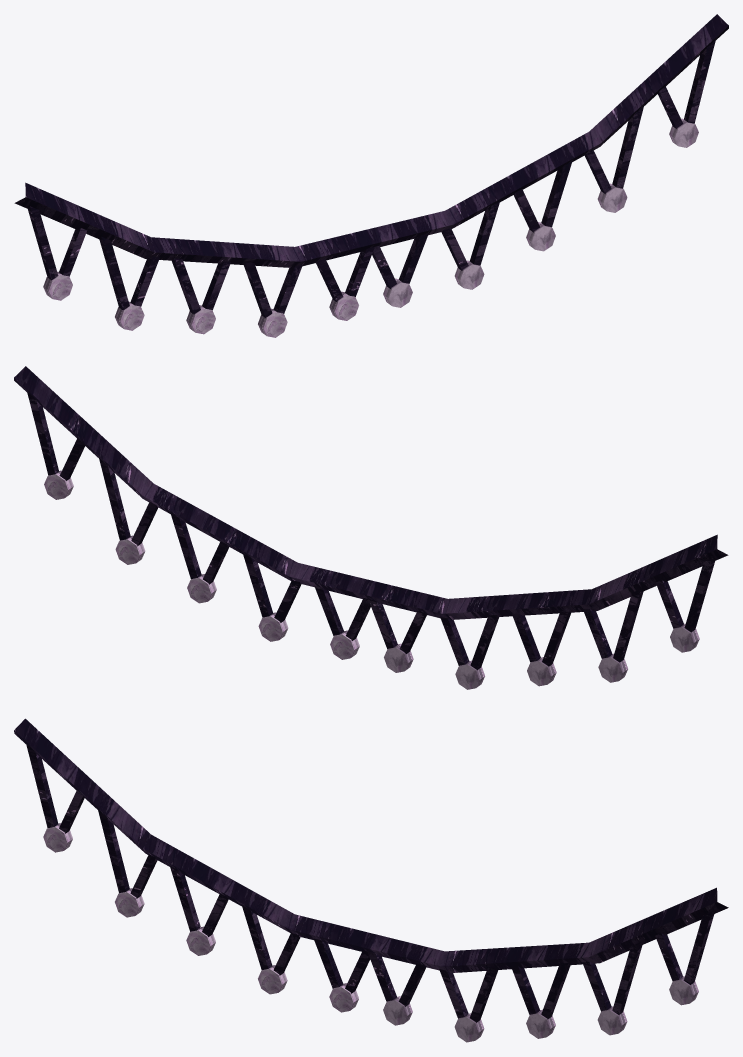
Rendered from entity42410.gltf.
3 views of the same model, one above another, from view 1: azimuth 30°, elevation 25°; view 2: azimuth 150°, elevation 25°; view 3: azimuth 330°, elevation 25° (orthographic).
Visible parts, largest first — view 1: node_mesh_fence_01; view 2: node_mesh_fence_01; view 3: node_mesh_fence_01.
Part boxes in pixels (x1=…): node_mesh_fence_01: x1=14, y1=14, x2=728, y2=337; node_mesh_fence_01: x1=14, y1=366, x2=728, y2=689; node_mesh_fence_01: x1=14, y1=718, x2=728, y2=1042.
Bounding box in the file's own units: 245 × 70.09 × 6.97.
Materials: 2 (2 with a texture image).
